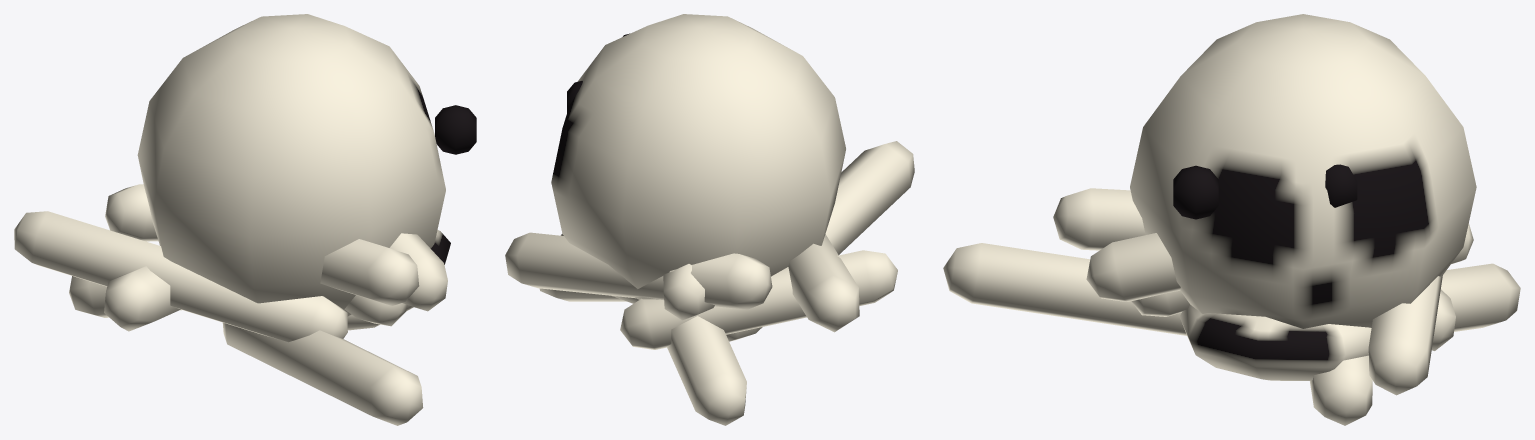
The model's file is prop_bonepile5_bd5e.glb.
3 views of the same model, side by side, from view 1: azimuth 30°, elevation 25°; view 2: azimuth 150°, elevation 25°; view 3: azimuth 270°, elevation 25° (orthographic). The views are drawn at different scales.
Visible parts, largest first — view 1: prop_bonepile5_bd5e; view 2: prop_bonepile5_bd5e; view 3: prop_bonepile5_bd5e.
Boxes of the visible parts, x1=… form: prop_bonepile5_bd5e: x1=14, y1=14, x2=476, y2=425; prop_bonepile5_bd5e: x1=505, y1=14, x2=914, y2=425; prop_bonepile5_bd5e: x1=943, y1=14, x2=1520, y2=425.
Bounding box in the file's own units: 0.4922 × 0.4071 × 0.6034.
Materials: 1 (1 with a texture image).
